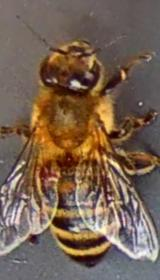varroa_mite: (30, 156, 68, 187)
